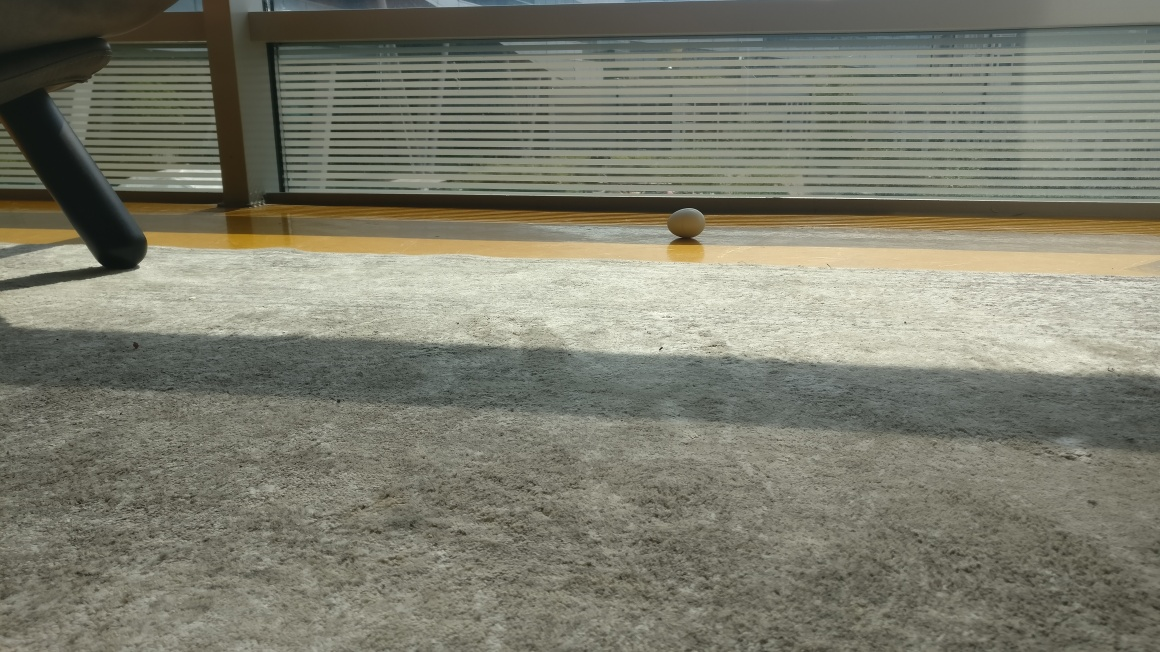egg: (666, 207, 706, 238)
